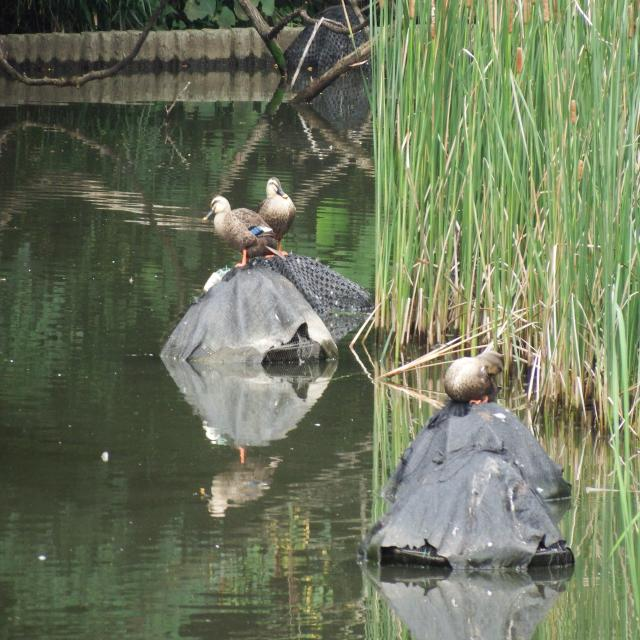bird: (196, 184, 295, 268), (422, 328, 524, 409)
